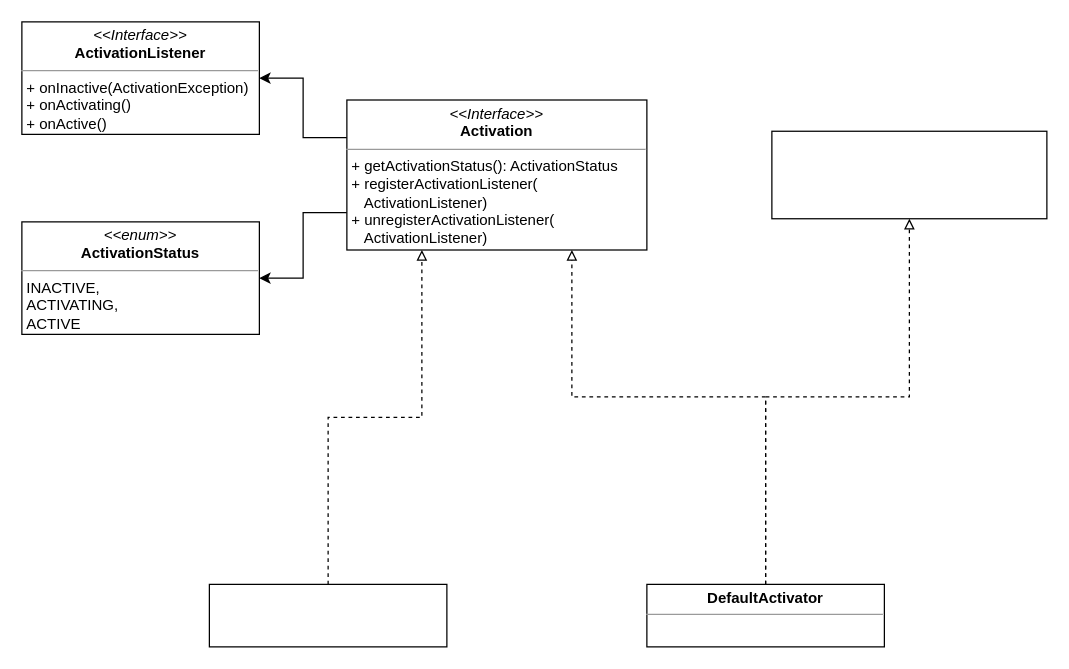
Some shapes in this 1069 by 669 pixel diagram are drawn without their labels. The centre of each missing label's shape, as x and y in pixels:
<<Interface>> Activator + [a]activate(deviceId: String): the point at 909,174
ActivationManager: the point at 327,615
